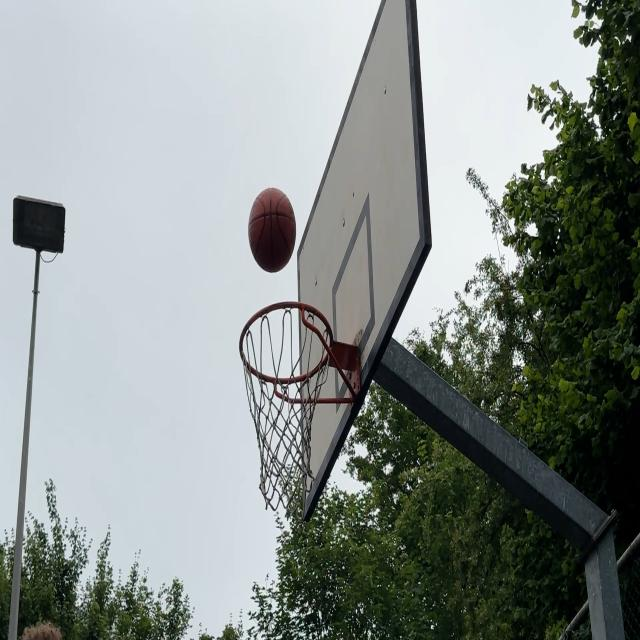Basketball: (249, 190, 297, 276)
